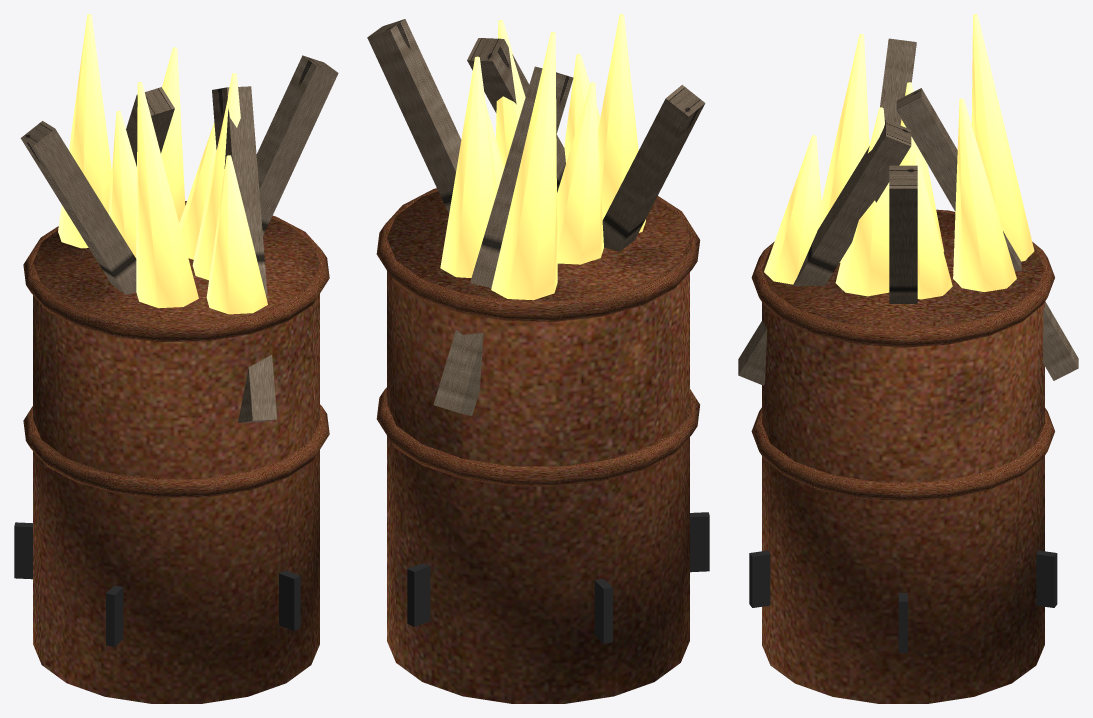
File: WK_LGT_FireBarrel.glb
3 renders of one model, left to right at view 1: azimuth 30°, elevation 25°; view 2: azimuth 150°, elevation 25°; view 3: azimuth 270°, elevation 25°, orthographic. The views are drawn at different scales.
Parts seen in each view (by area): view 1: WK_LGT_FireBarrel_P01, WK_LGT_FireBarrel_P14, WK_LGT_FireBarrel_P02, WK_LGT_FireBarrel_P03, WK_LGT_FireBarrel_P19, WK_LGT_FireBarrel_P20, WK_LGT_FireBarrel_P17, WK_LGT_FireBarrel_P15, WK_LGT_FireBarrel_P12, WK_LGT_FireBarrel_P16, WK_LGT_FireBarrel_P13, WK_LGT_FireBarrel_P11 (+5 smaller); view 2: WK_LGT_FireBarrel_P01, WK_LGT_FireBarrel_P12, WK_LGT_FireBarrel_P02, WK_LGT_FireBarrel_P03, WK_LGT_FireBarrel_P17, WK_LGT_FireBarrel_P18, WK_LGT_FireBarrel_P11, WK_LGT_FireBarrel_P19, WK_LGT_FireBarrel_P13, WK_LGT_FireBarrel_P14, WK_LGT_FireBarrel_P20, WK_LGT_FireBarrel_P16 (+4 smaller); view 3: WK_LGT_FireBarrel_P01, WK_LGT_FireBarrel_P20, WK_LGT_FireBarrel_P11, WK_LGT_FireBarrel_P02, WK_LGT_FireBarrel_P03, WK_LGT_FireBarrel_P12, WK_LGT_FireBarrel_P18, WK_LGT_FireBarrel_P15, WK_LGT_FireBarrel_P16, WK_LGT_FireBarrel_P17, WK_LGT_FireBarrel_P14, WK_LGT_FireBarrel_P10 (+5 smaller).
Part boxes in pixels (x1,y1,x2,y2): WK_LGT_FireBarrel_P01: (33,203,319,703); WK_LGT_FireBarrel_P14: (136,82,198,308); WK_LGT_FireBarrel_P02: (23,201,329,342); WK_LGT_FireBarrel_P03: (23,404,329,498); WK_LGT_FireBarrel_P19: (20,121,136,294); WK_LGT_FireBarrel_P20: (212,86,277,423); WK_LGT_FireBarrel_P17: (256,55,338,235); WK_LGT_FireBarrel_P15: (206,155,267,314); WK_LGT_FireBarrel_P12: (58,14,111,248); WK_LGT_FireBarrel_P16: (192,73,240,280); WK_LGT_FireBarrel_P13: (108,111,136,258); WK_LGT_FireBarrel_P11: (161,47,185,222); WK_LGT_FireBarrel_P01: (387,191,689,703); WK_LGT_FireBarrel_P12: (491,32,557,300); WK_LGT_FireBarrel_P02: (376,188,700,321); WK_LGT_FireBarrel_P03: (376,387,699,486); WK_LGT_FireBarrel_P17: (367,19,461,213); WK_LGT_FireBarrel_P18: (433,66,573,416); WK_LGT_FireBarrel_P11: (440,56,496,277); WK_LGT_FireBarrel_P19: (602,85,705,251); WK_LGT_FireBarrel_P13: (557,82,603,264); WK_LGT_FireBarrel_P14: (598,14,645,232); WK_LGT_FireBarrel_P20: (467,38,565,192); WK_LGT_FireBarrel_P16: (496,20,525,167); WK_LGT_FireBarrel_P01: (762,211,1044,703); WK_LGT_FireBarrel_P20: (738,120,911,385); WK_LGT_FireBarrel_P11: (953,98,1016,292); WK_LGT_FireBarrel_P02: (751,209,1054,347); WK_LGT_FireBarrel_P03: (751,407,1054,501); WK_LGT_FireBarrel_P12: (971,14,1034,261); WK_LGT_FireBarrel_P18: (896,88,1078,380); WK_LGT_FireBarrel_P15: (764,135,822,284); WK_LGT_FireBarrel_P16: (835,107,889,296); WK_LGT_FireBarrel_P17: (889,165,917,303); WK_LGT_FireBarrel_P14: (821,34,869,262); WK_LGT_FireBarrel_P10: (912,156,952,299).
Bounding box in the file's own units: 0.7378 × 1.42 × 0.7212.
4 materials, 2 textured.
